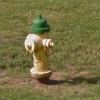Hydrant: (17, 11, 69, 90)
